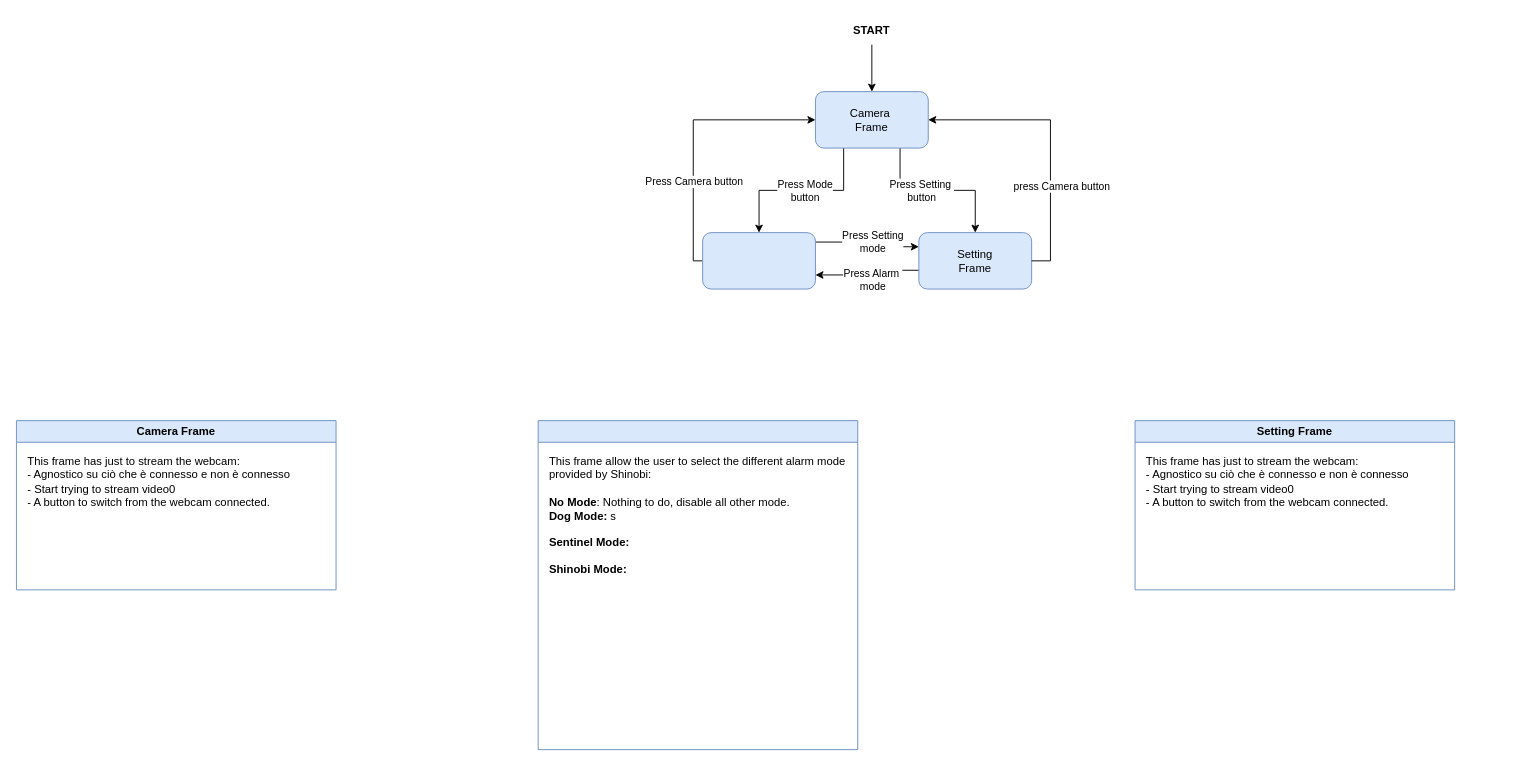
This 1528x777 diagram has some shape labels left out. The box of each missing label's shape, as (x1, y1, x2, y2) in pixels:
Alarm Mode Frame: (702, 232, 815, 289)
Mode Selector: (537, 420, 858, 750)
